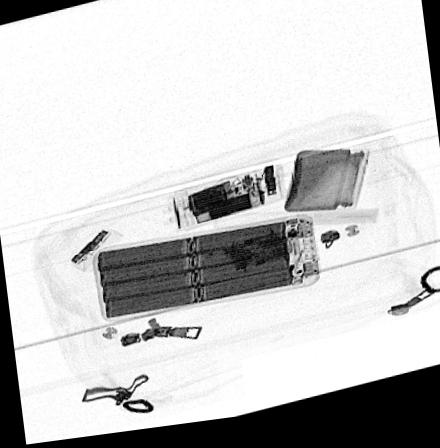Powerbank: (92, 221, 321, 327)
